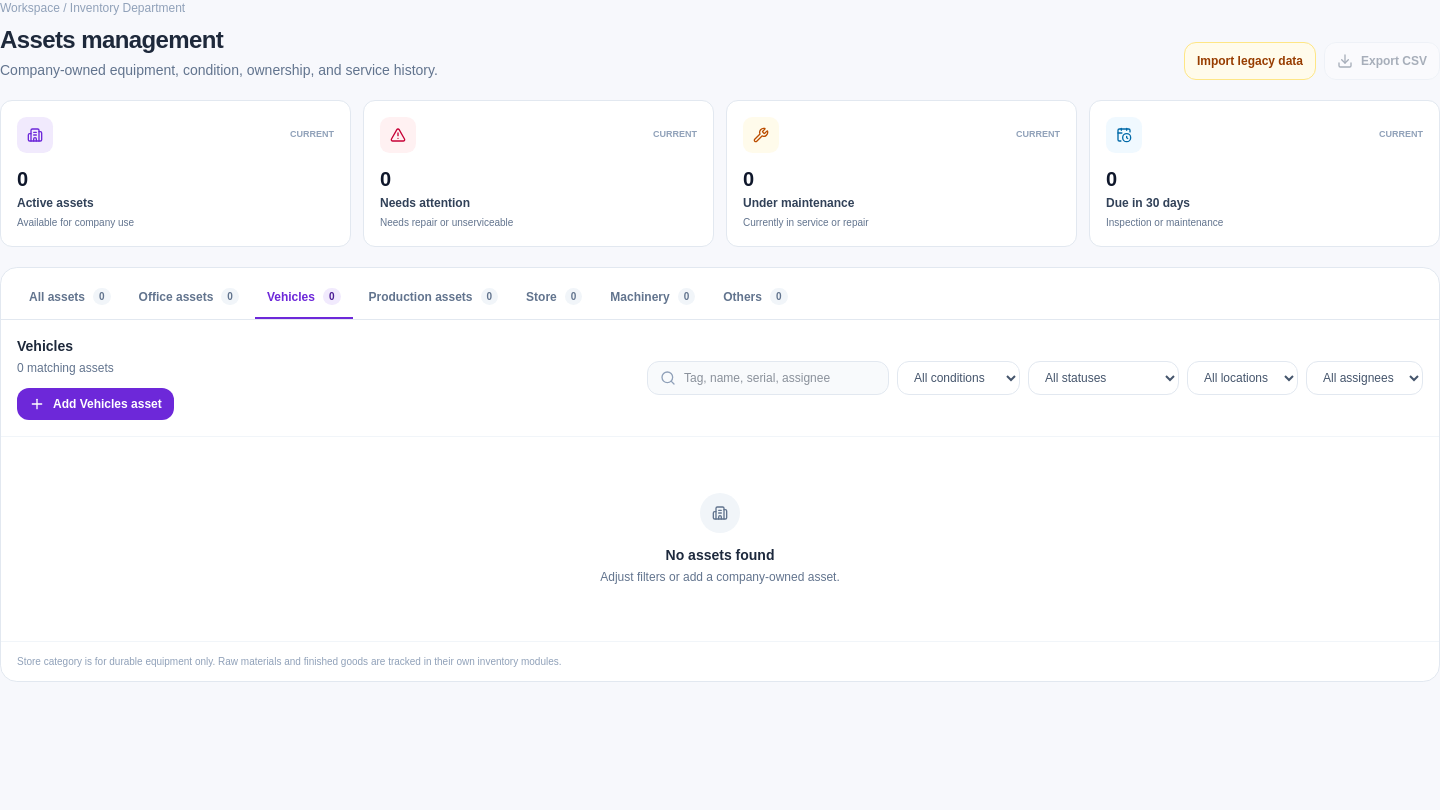
Test: asset-management client › shows a category-specific create action in every category section
Earlier steps of the test are not shown.
Check: the button "Add Vehicles asset" is shown, box [17,388,174,420]
Click the tab "Production assets 0". click: coordinates (433, 298)
box: [356,276,510,319]
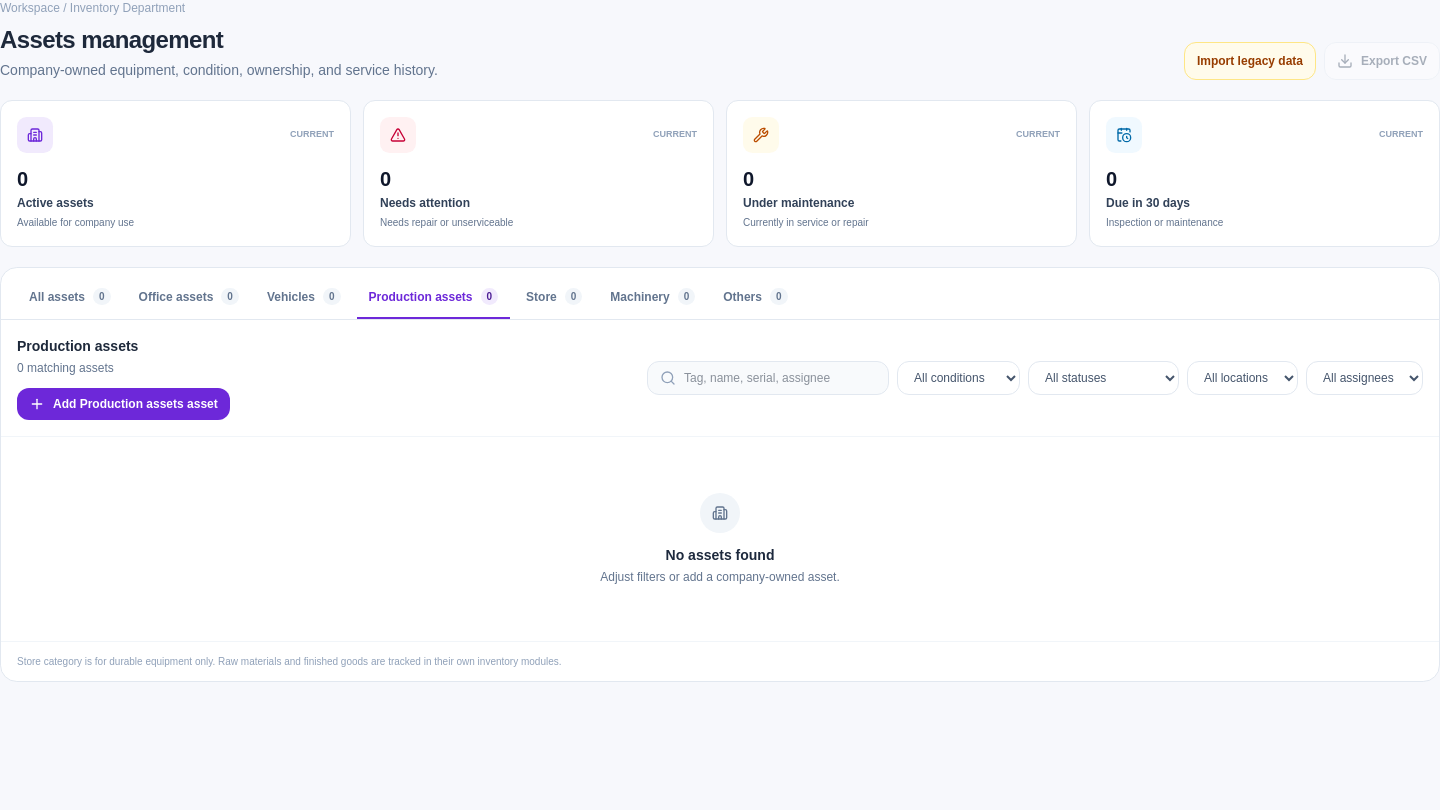
Click the tab "Store 0". click: coordinates (554, 298)
box: [514,276,594,319]
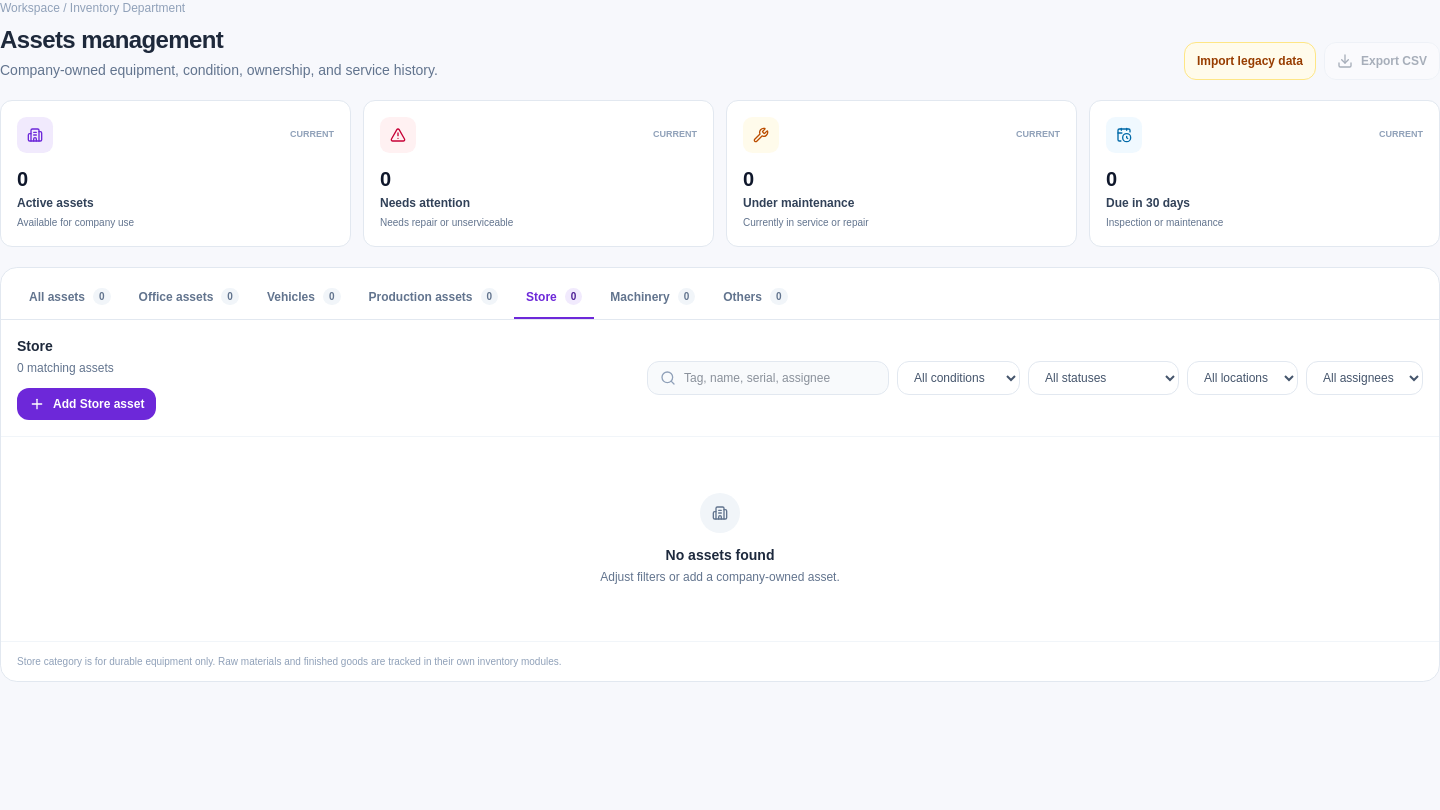
Click the tab "Machinery 0". click: coordinates (653, 298)
box: [598,276,707,319]
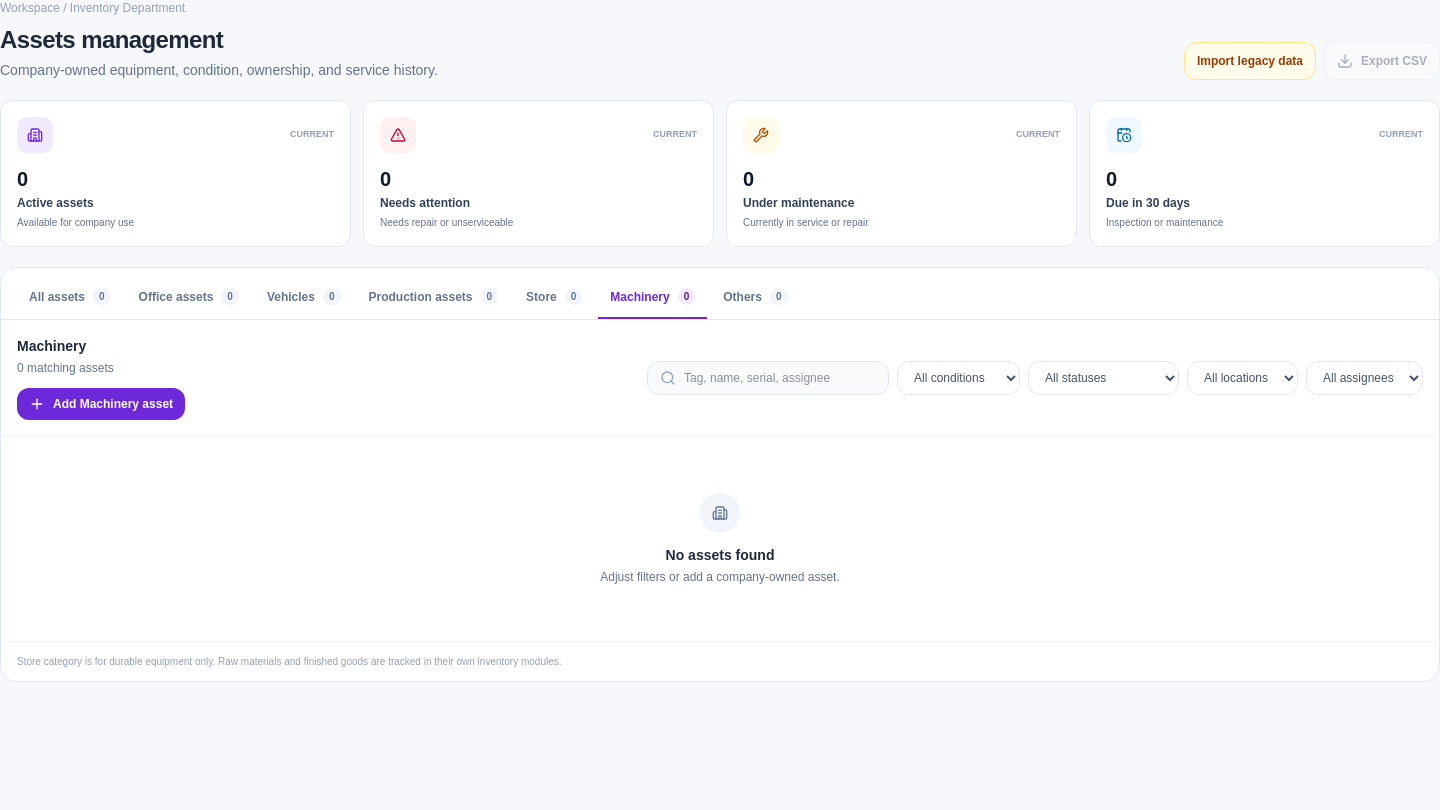
Click the tab "Others 0". click: coordinates (755, 298)
box: [711,276,800,319]
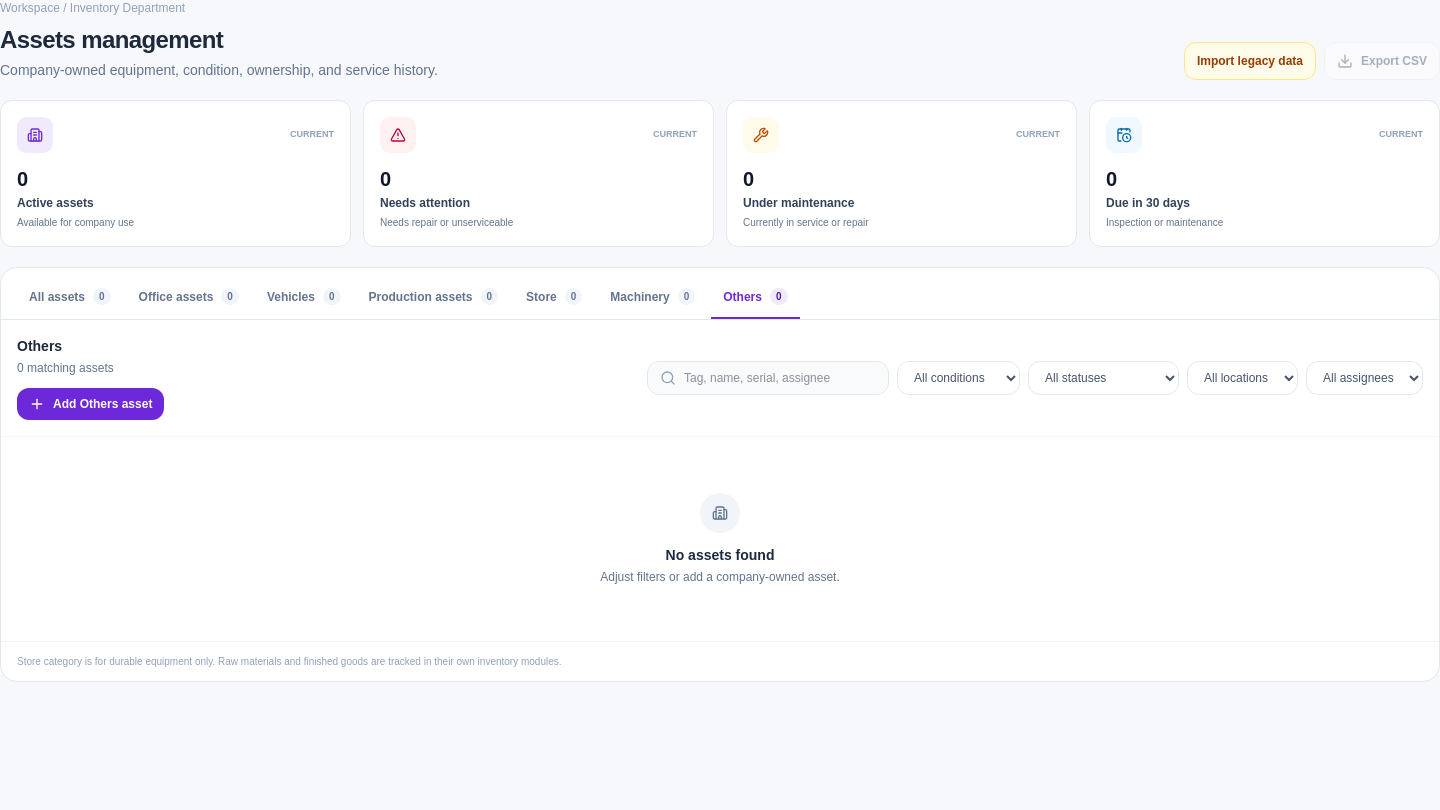
Click the tab "Vehicles 0". click: coordinates (304, 298)
box: [255,276,352,319]
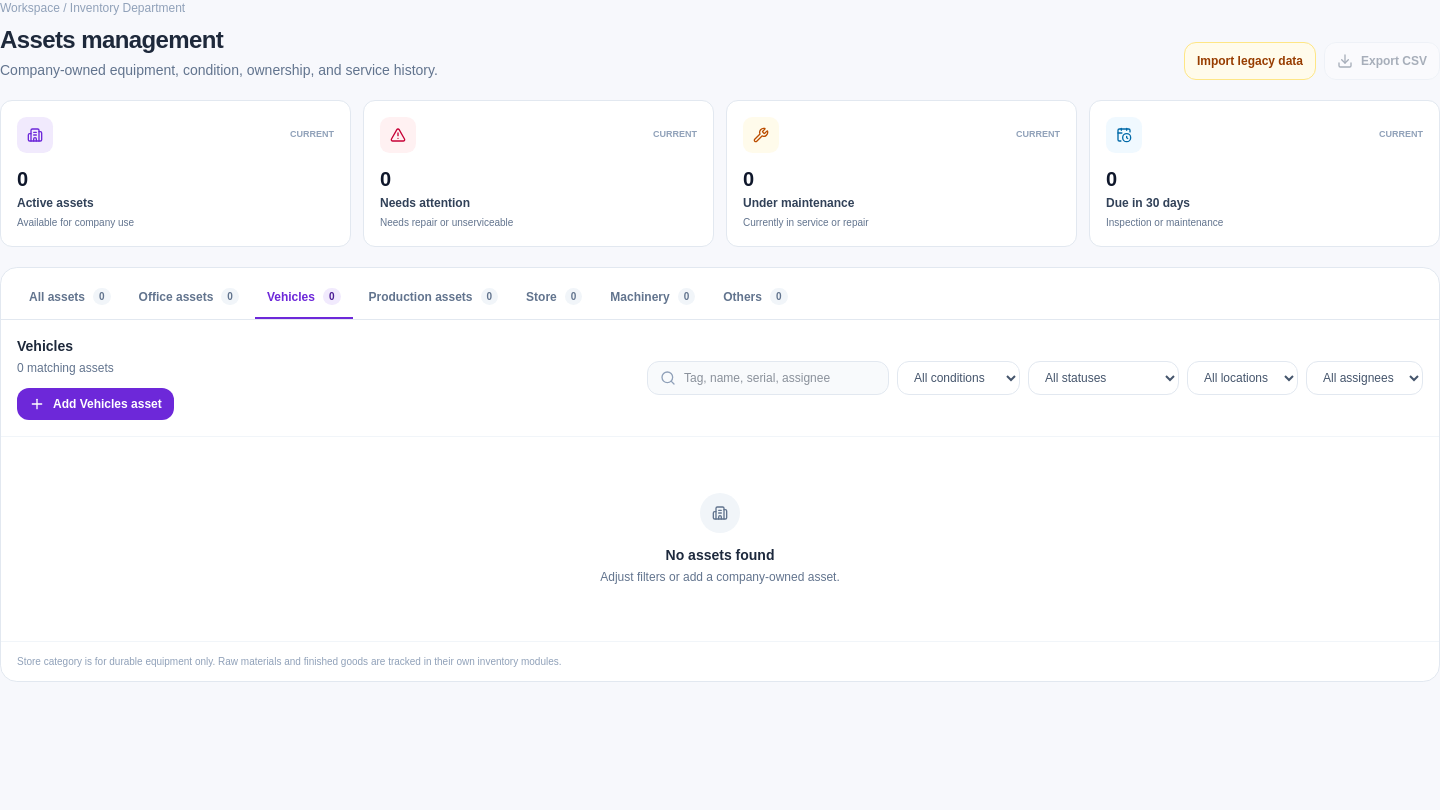
Click the button "Add Vehicles asset". click: coordinates (95, 404)
box: [17,388,174,420]
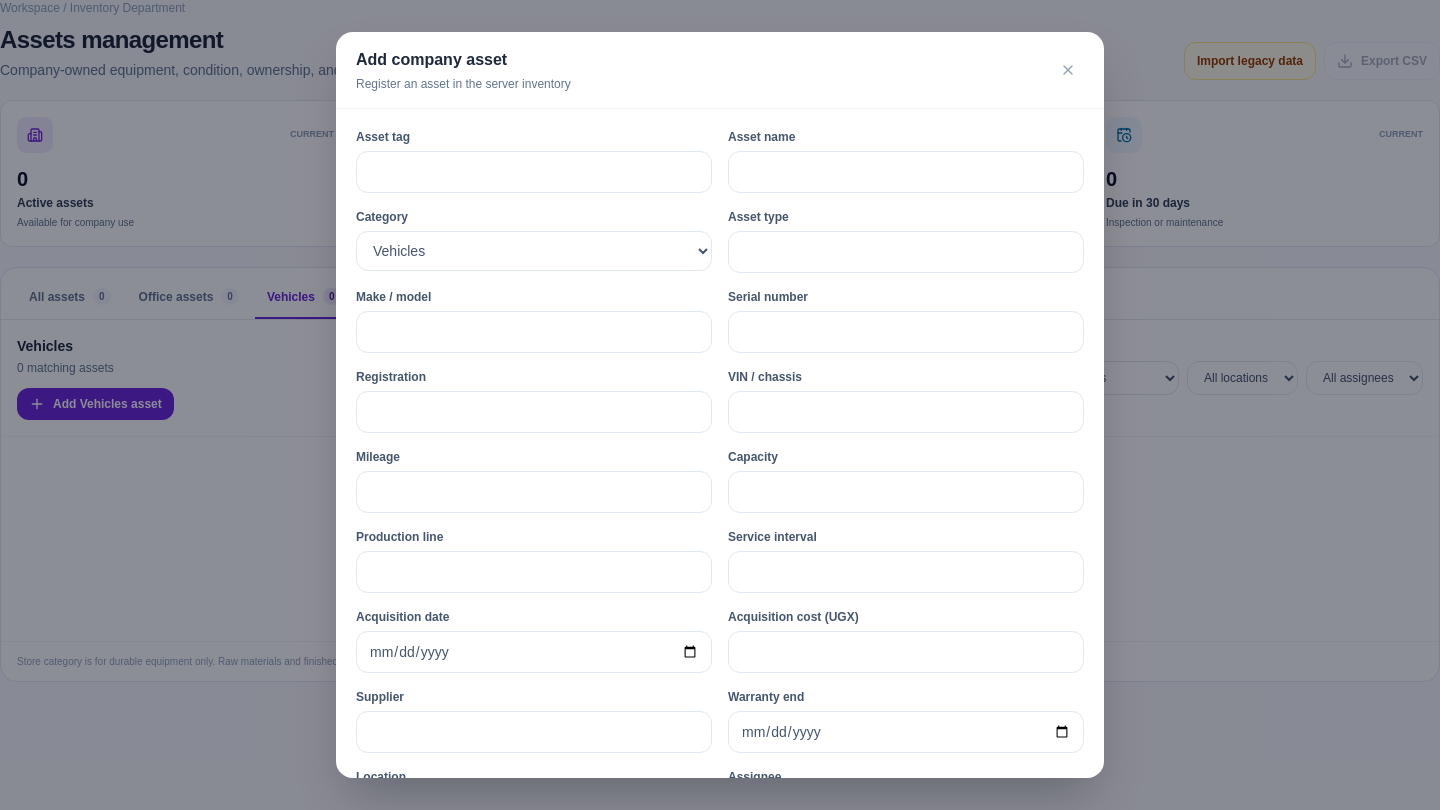
Check: the dropdown labelled "Category" shows "Vehicles", box [356,231,712,271]
